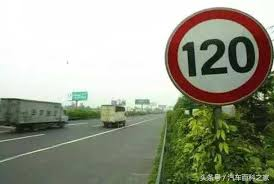Speed_limit_120km: (162, 6, 273, 107)
